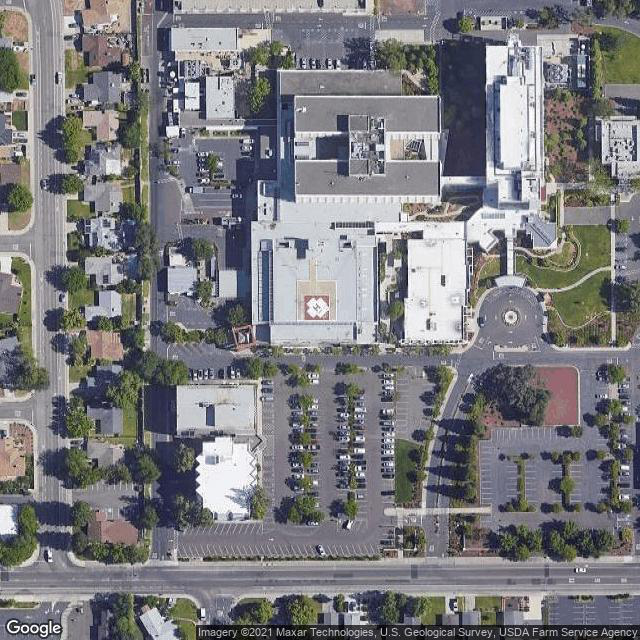Helipad: (300, 292, 332, 321)
